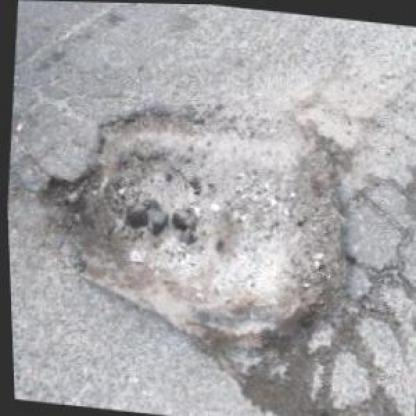pothole: (22, 87, 372, 373)
